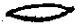Mouth: (4, 1, 76, 23)
